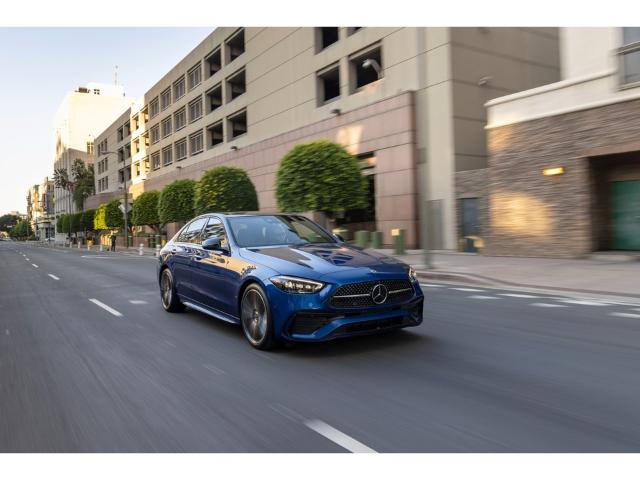benz: (157, 210, 425, 350)
